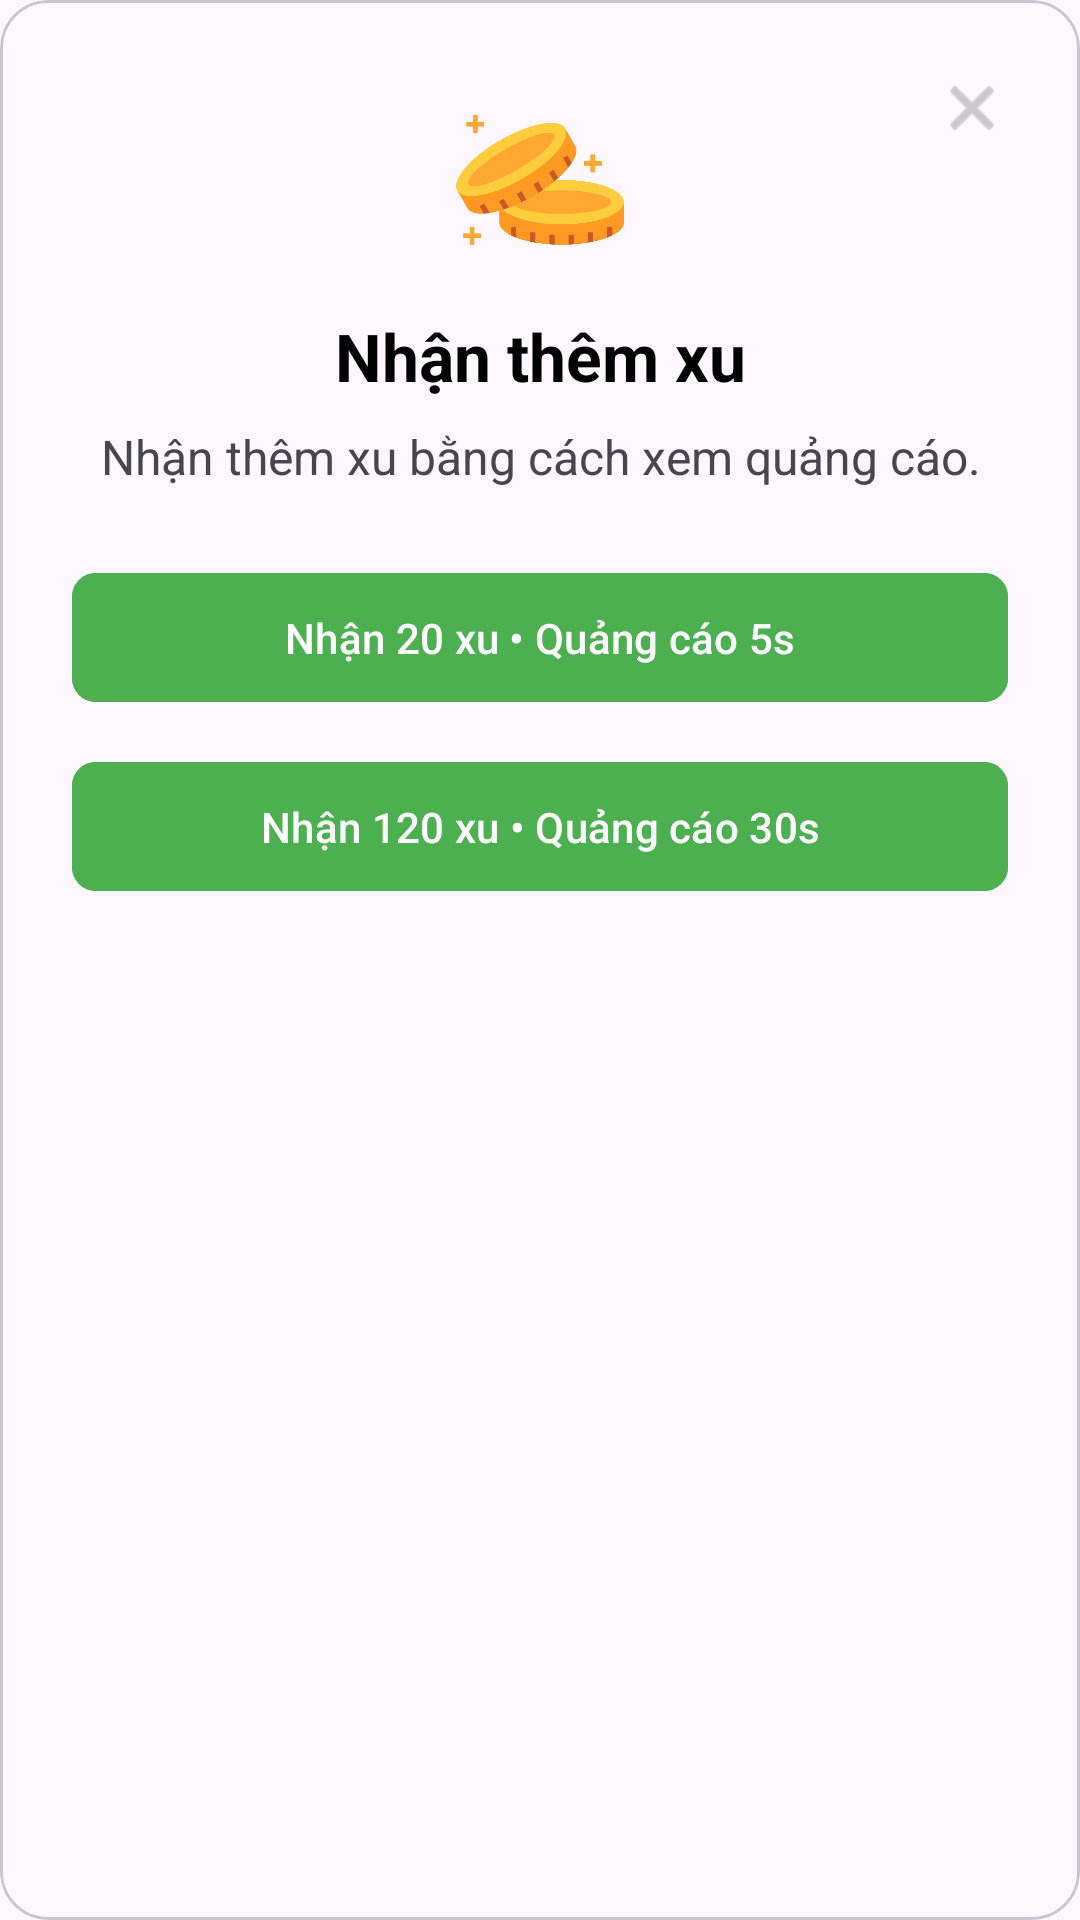

Icons on this 1080w x 1920h Android screen, each with its box as (x1, y1, x2, y2):
coin: (456, 115, 624, 245)
Đóng: (950, 86, 994, 130)
